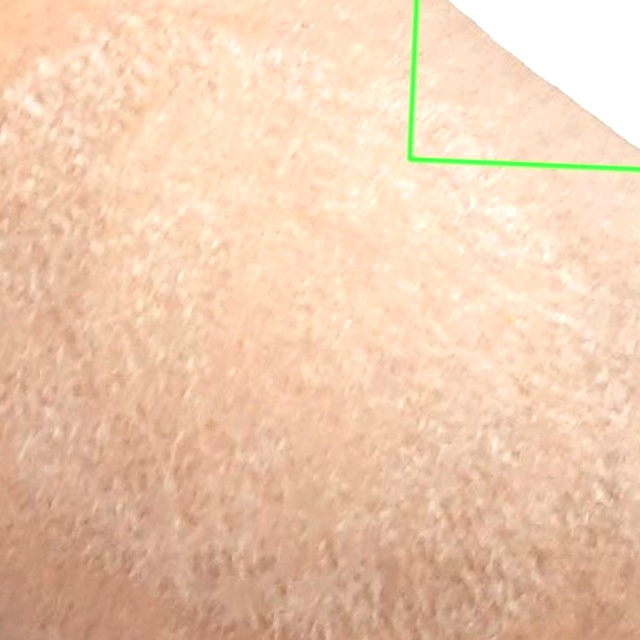Tinea Corporis: (409, 0, 639, 169)
